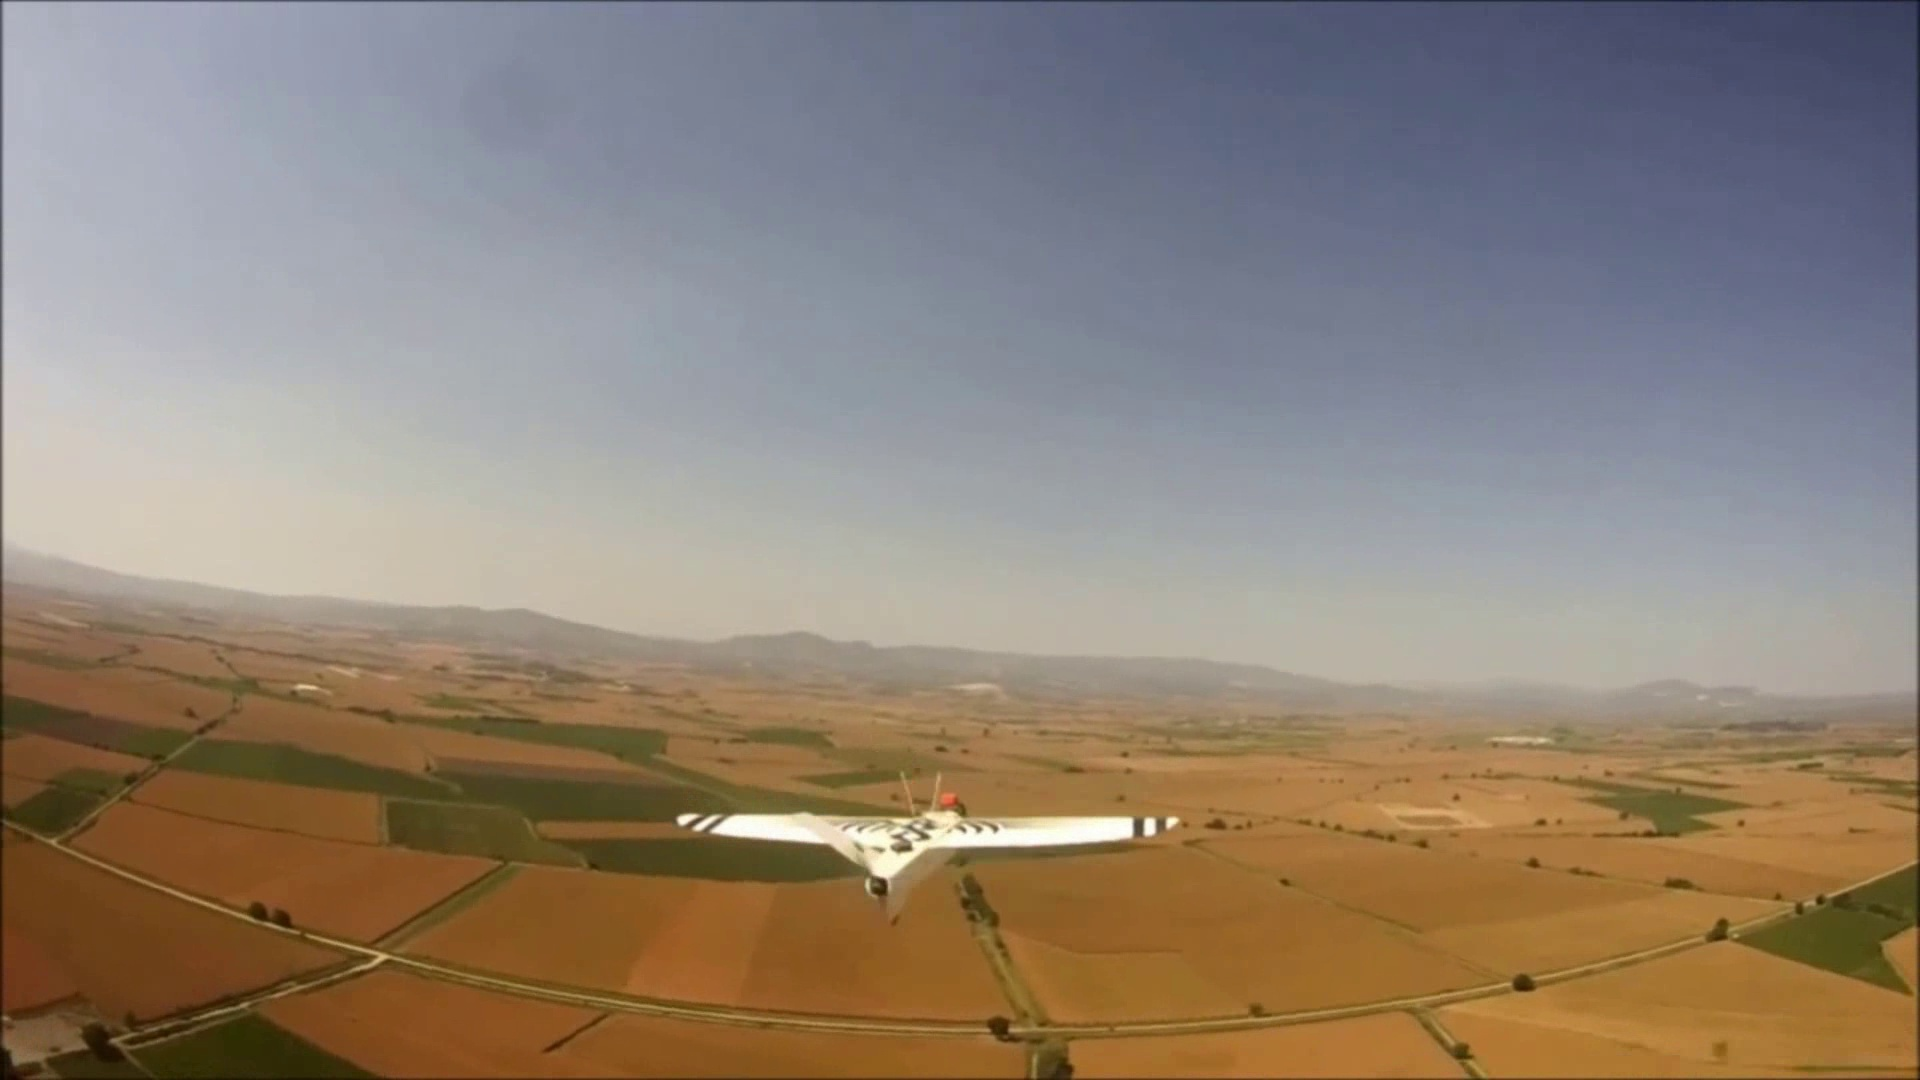airplane: (669, 790, 1178, 916)
